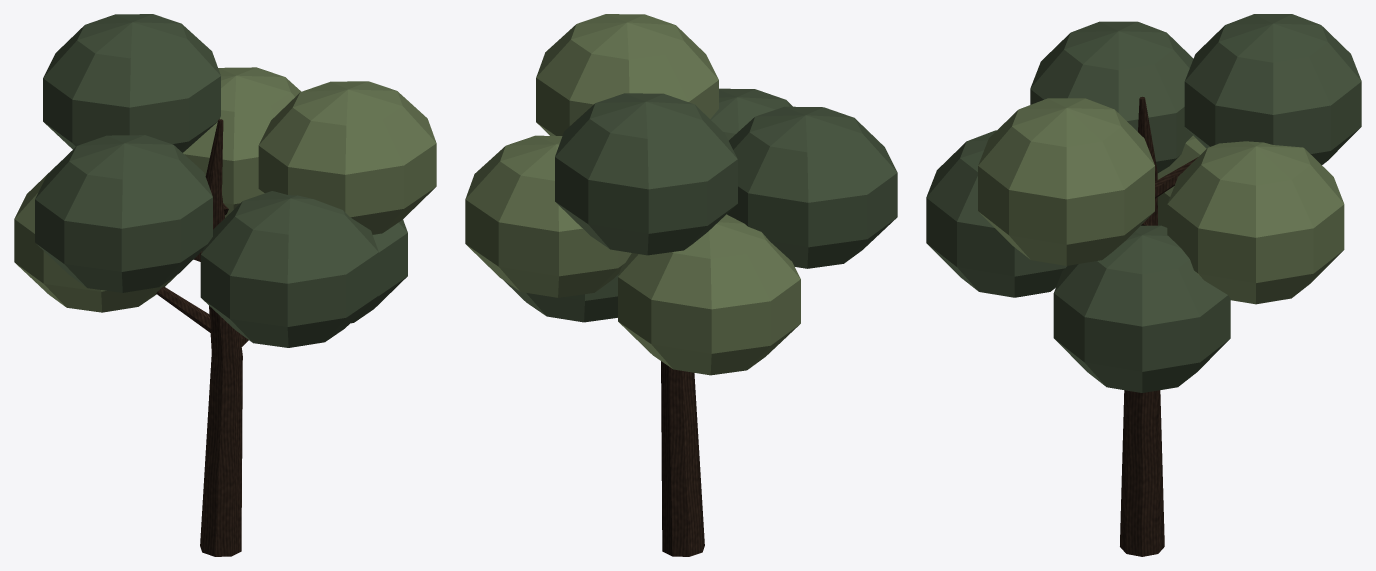
Rendered from Tree_Broadleaf_03.glb.
The picture shows the model from 3 angles, left to right: view 1: azimuth 30°, elevation 25°; view 2: azimuth 150°, elevation 25°; view 3: azimuth 270°, elevation 25°; orthographic projection. The views are drawn at different scales.
Visible parts, largest first — view 1: Tree_Broadleaf_03; view 2: Tree_Broadleaf_03; view 3: Tree_Broadleaf_03.
Part boxes in pixels (x1=…): Tree_Broadleaf_03: x1=14, y1=14, x2=436, y2=556; Tree_Broadleaf_03: x1=465, y1=14, x2=897, y2=556; Tree_Broadleaf_03: x1=926, y1=14, x2=1361, y2=556.
Size of the model in its own units: 3.88 by 5.01 by 3.87.
Materials: 3 (1 with a texture image).
